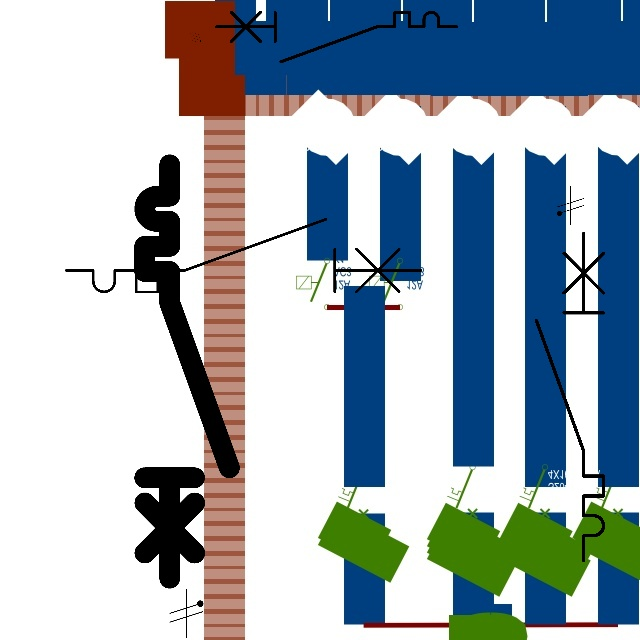interruptor_termomagnetico: (134, 154, 240, 589), (57, 210, 429, 301), (528, 224, 612, 568), (210, 6, 463, 68)
